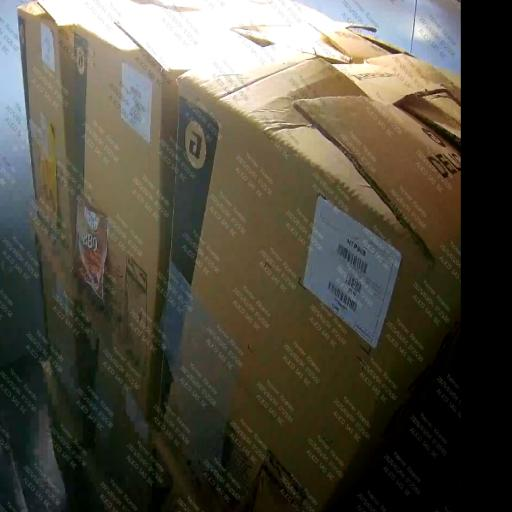Caja no amarrada: (67, 22, 304, 322)
